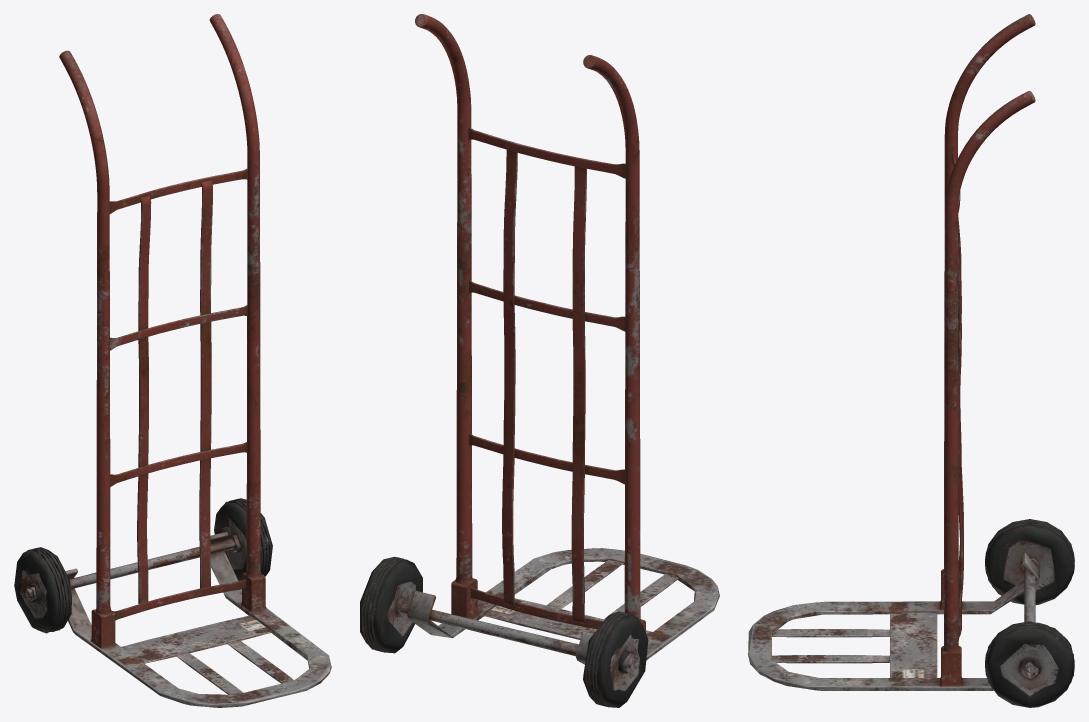
File: hand_truck.gltf
The picture shows the model from 3 angles, left to right: view 1: azimuth 30°, elevation 25°; view 2: azimuth 150°, elevation 25°; view 3: azimuth 270°, elevation 25°; orthographic projection. The views are drawn at different scales.
Parts seen in each view (by area): view 1: hand_truck; view 2: hand_truck; view 3: hand_truck.
Part boxes in pixels (x1=…): hand_truck: x1=14, y1=14, x2=331, y2=707; hand_truck: x1=360, y1=14, x2=719, y2=707; hand_truck: x1=748, y1=14, x2=1074, y2=707.
Bounding box in the file's own units: 0.5933 × 1.4 × 0.6922.
1 material, 1 textured.
